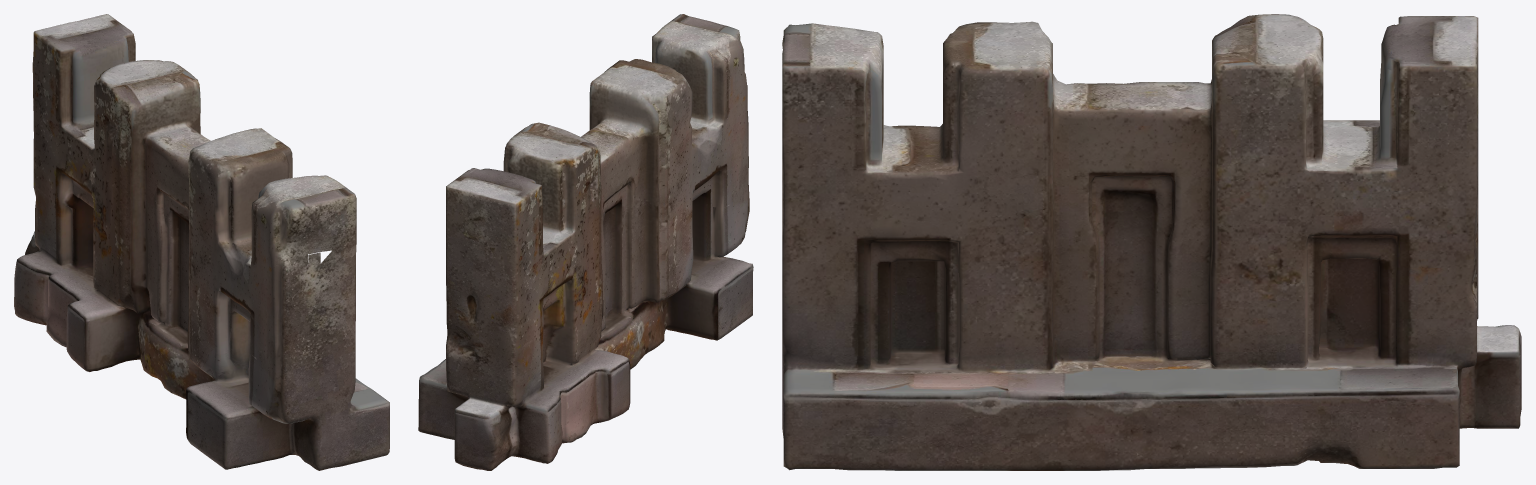
The model's file is ruina_pumapunku1.glb.
3 views of the same model, side by side, from view 1: azimuth 30°, elevation 25°; view 2: azimuth 150°, elevation 25°; view 3: azimuth 270°, elevation 25° (orthographic). The views are drawn at different scales.
Visible parts, largest first — view 1: tripo_node_5edb4154-b5c3-4e8d-8362-114de; view 2: tripo_node_5edb4154-b5c3-4e8d-8362-114de; view 3: tripo_node_5edb4154-b5c3-4e8d-8362-114de.
Part boxes in pixels (<box>): tripo_node_5edb4154-b5c3-4e8d-8362-114de: <box>14,14,389,470</box>; tripo_node_5edb4154-b5c3-4e8d-8362-114de: <box>418,14,753,470</box>; tripo_node_5edb4154-b5c3-4e8d-8362-114de: <box>782,14,1521,470</box>.
Size of the model in its own units: 0.3145 by 0.5723 by 0.998.
1 material, 1 textured.
